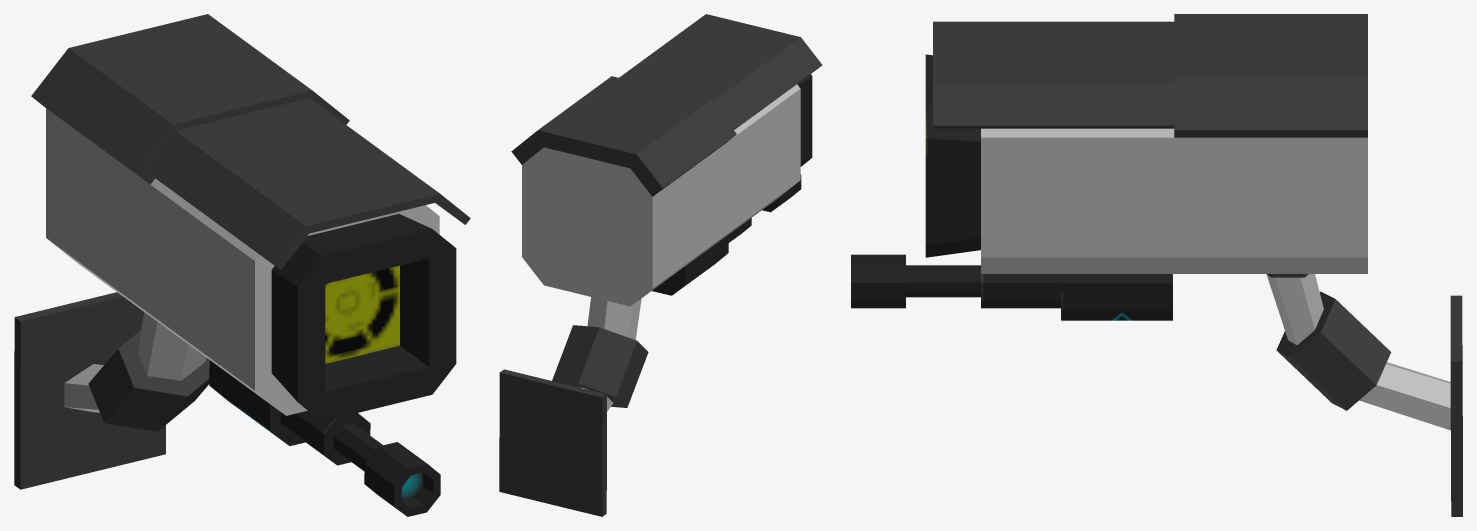
File: Camera_Wall.fbx
3 renders of one model, left to right at view 1: azimuth 30°, elevation 25°; view 2: azimuth 150°, elevation 25°; view 3: azimuth 270°, elevation 25°, orthographic. The views are drawn at different scales.
Parts seen in each view (by area): view 1: Camera_wall; view 2: Camera_wall; view 3: Camera_wall.
Part boxes in pixels (<box>): Camera_wall: <box>14,14,470,516</box>; Camera_wall: <box>499,14,822,516</box>; Camera_wall: <box>851,14,1462,516</box>.
Size of the model in its own units: 102 by 216 by 273.
Materials: 1 (1 with a texture image).
